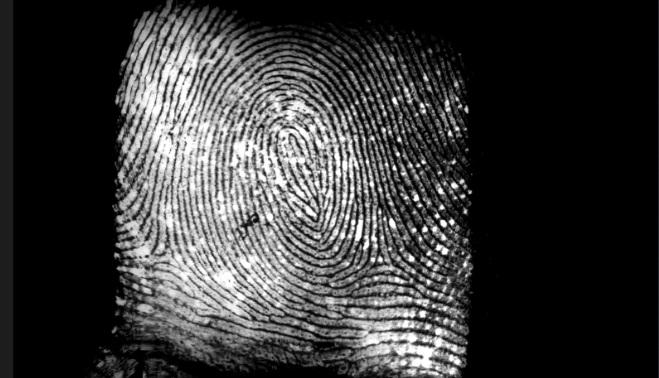nucelo: (273, 119, 314, 176)
verticilo: (155, 232, 188, 273), (367, 237, 399, 279)
